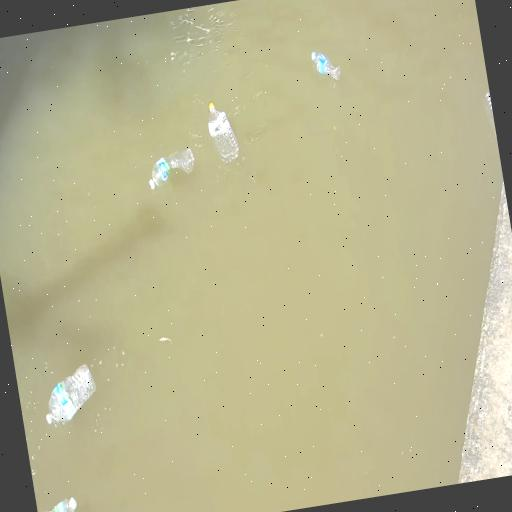plastic: (47, 364, 96, 427), (208, 103, 239, 162), (150, 149, 194, 189), (312, 52, 340, 80), (485, 92, 495, 133), (47, 497, 76, 511)
